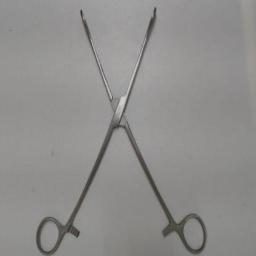Sponge Forceps: (32, 4, 210, 256)
